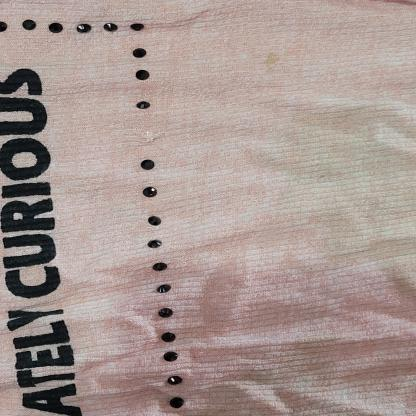spot: (290, 177, 416, 268), (278, 138, 416, 190), (299, 109, 416, 156), (389, 261, 416, 299), (254, 50, 286, 74)
